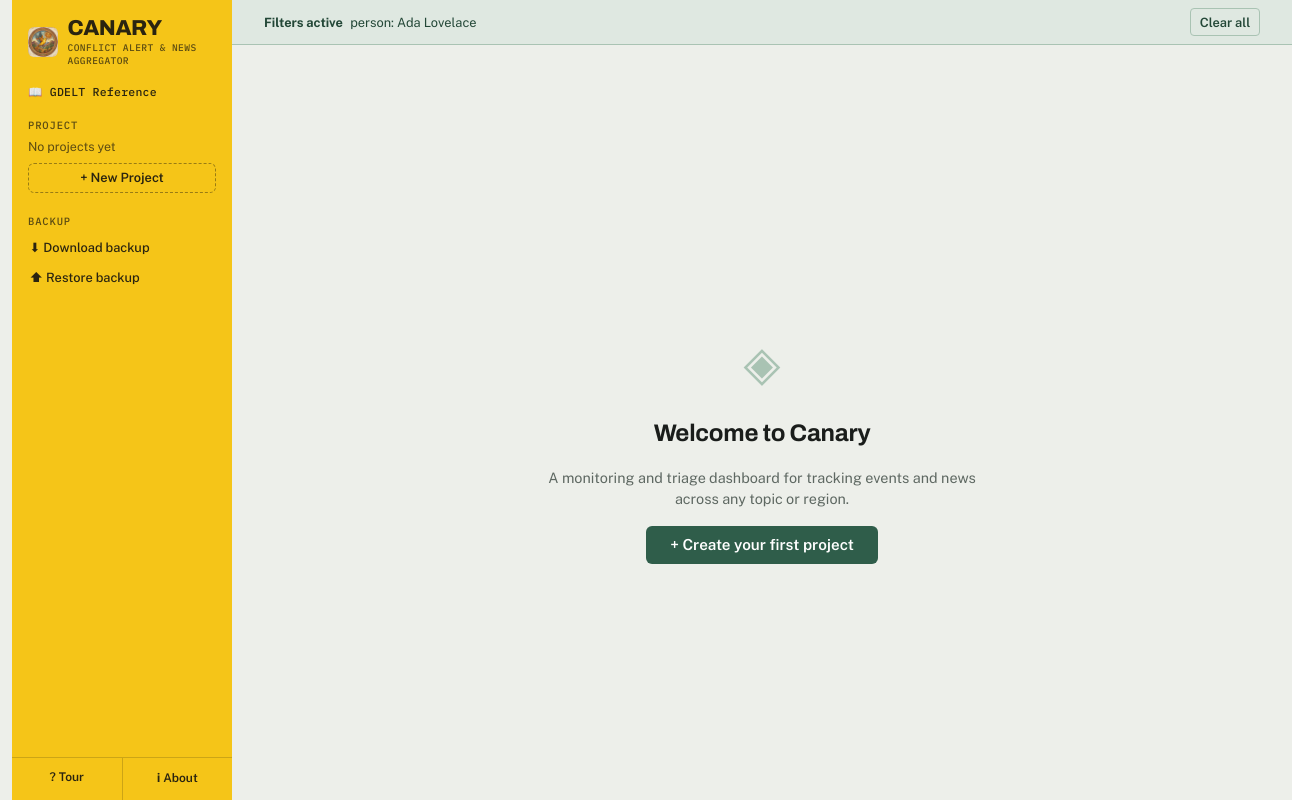
Test case: application bootstrap › keeps shared filters visible and clearable outside their source view
Click the button with aria-label "Clear all active filters".
click(1225, 22)  # box [1190, 8, 1260, 36]
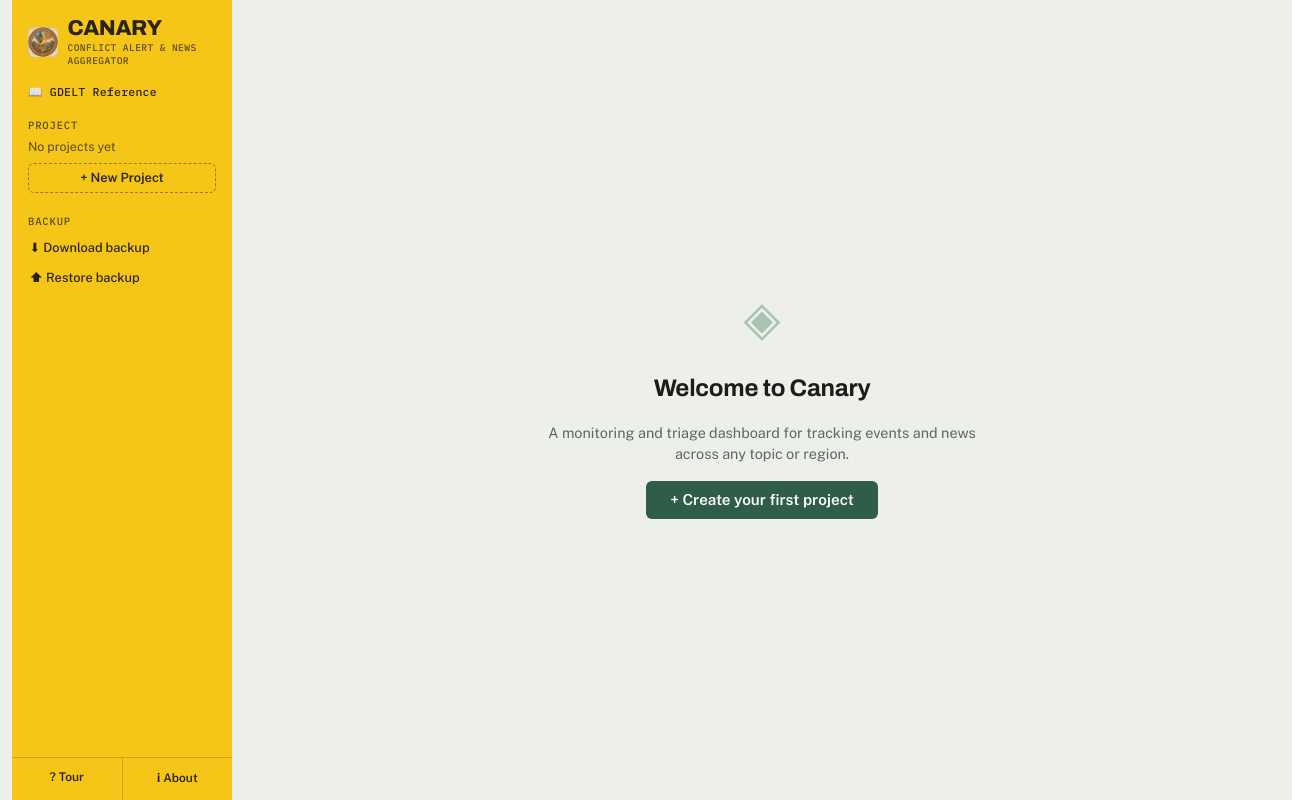
Now the text "Filters active" is gone
